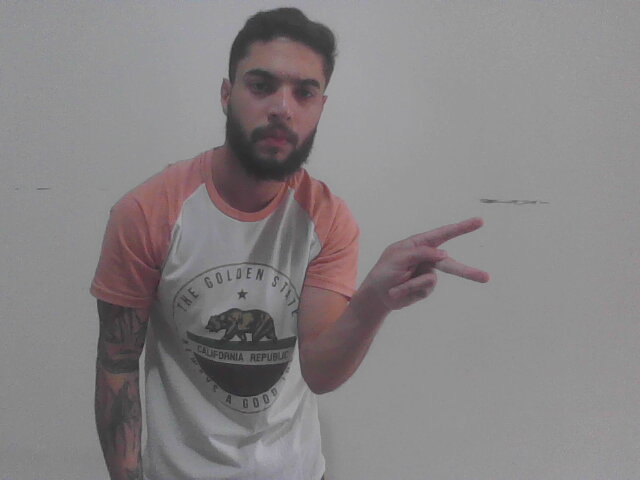k: (355, 214, 494, 316)
